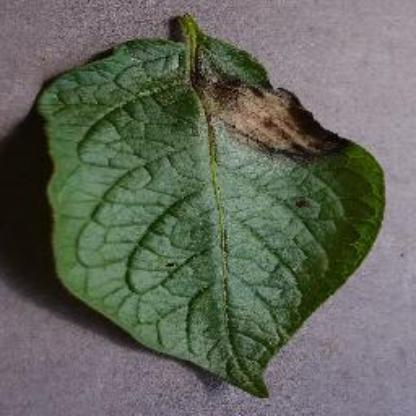Late-Blight: (20, 7, 404, 401)
